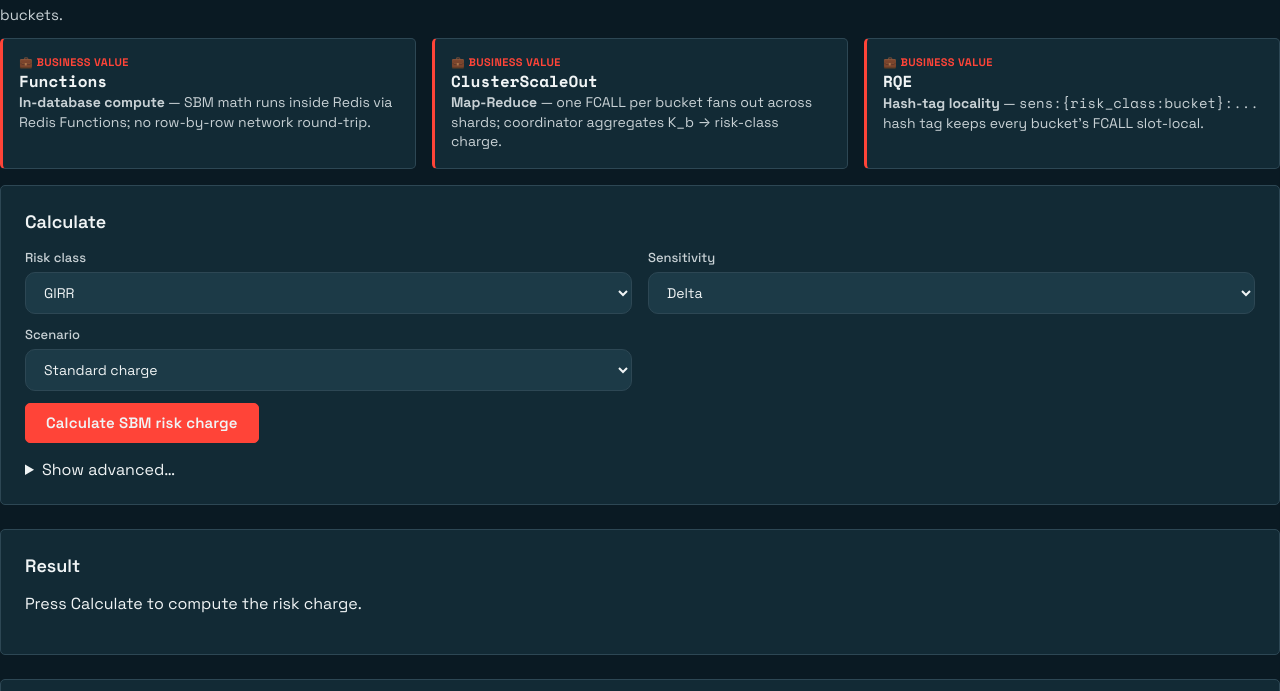
CalcPanel Wave 5.18 polish + drill-down › Wave 5.21a: FX Delta drill-down renders {spot} scalar cell with no placeholder
Step 1. Select "FX" in the dropdown labelled "Risk class" → (328, 293), box left=25, top=272, right=632, bottom=314
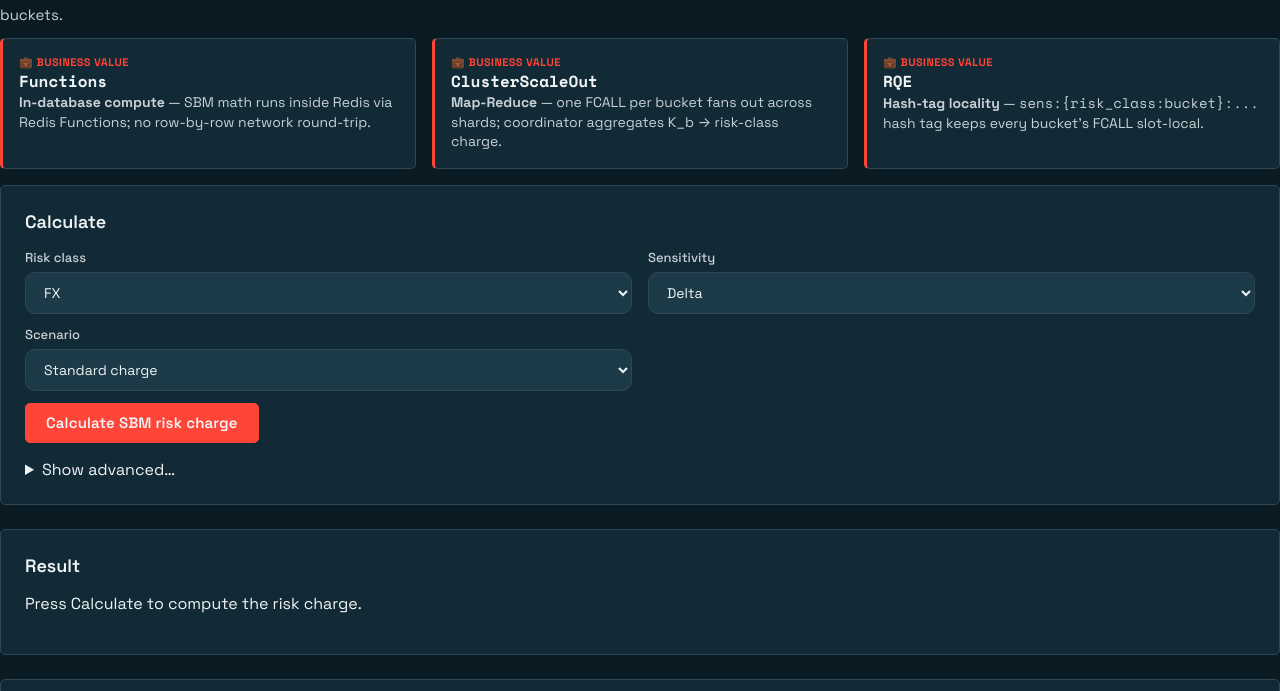
Step 2. Click the button "Calculate SBM risk charge" → (142, 423), box left=25, top=403, right=259, bottom=443
(page scrolled)
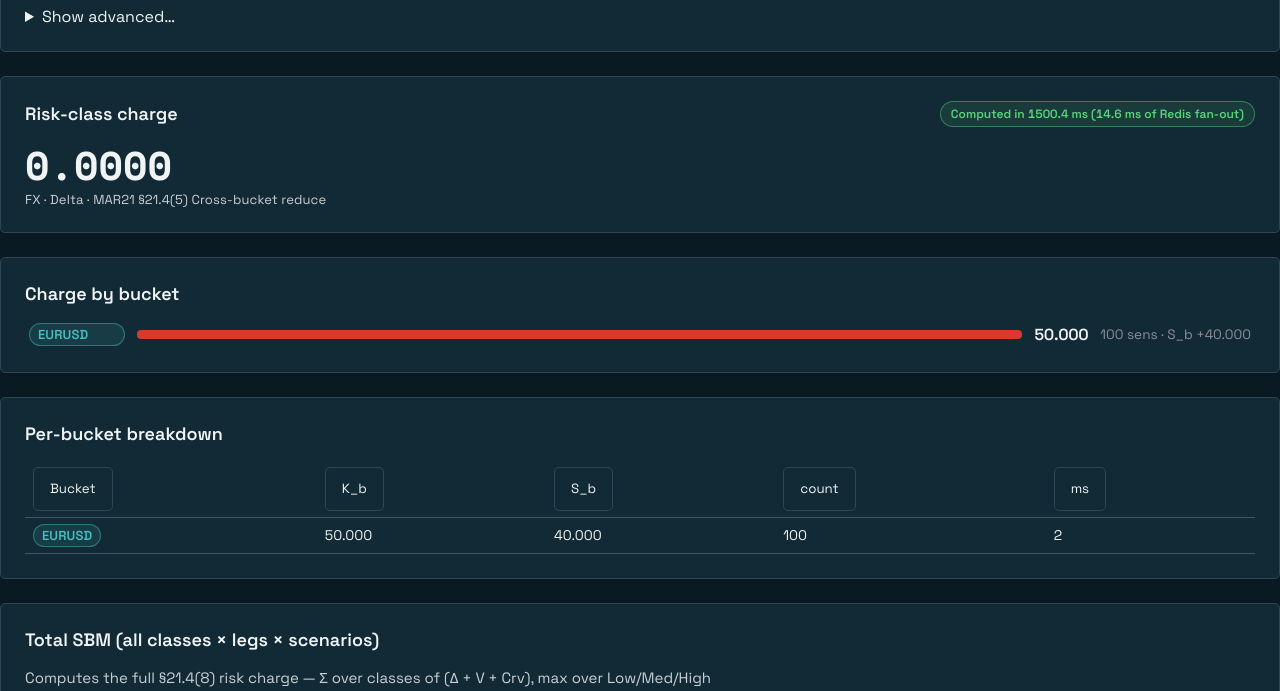
expect the text "0.0000" is shown: met, box left=25, top=143, right=172, bottom=187
Step 3. Click the button with test id "bucket-chart-row" → (640, 334), box left=25, top=321, right=1255, bottom=348
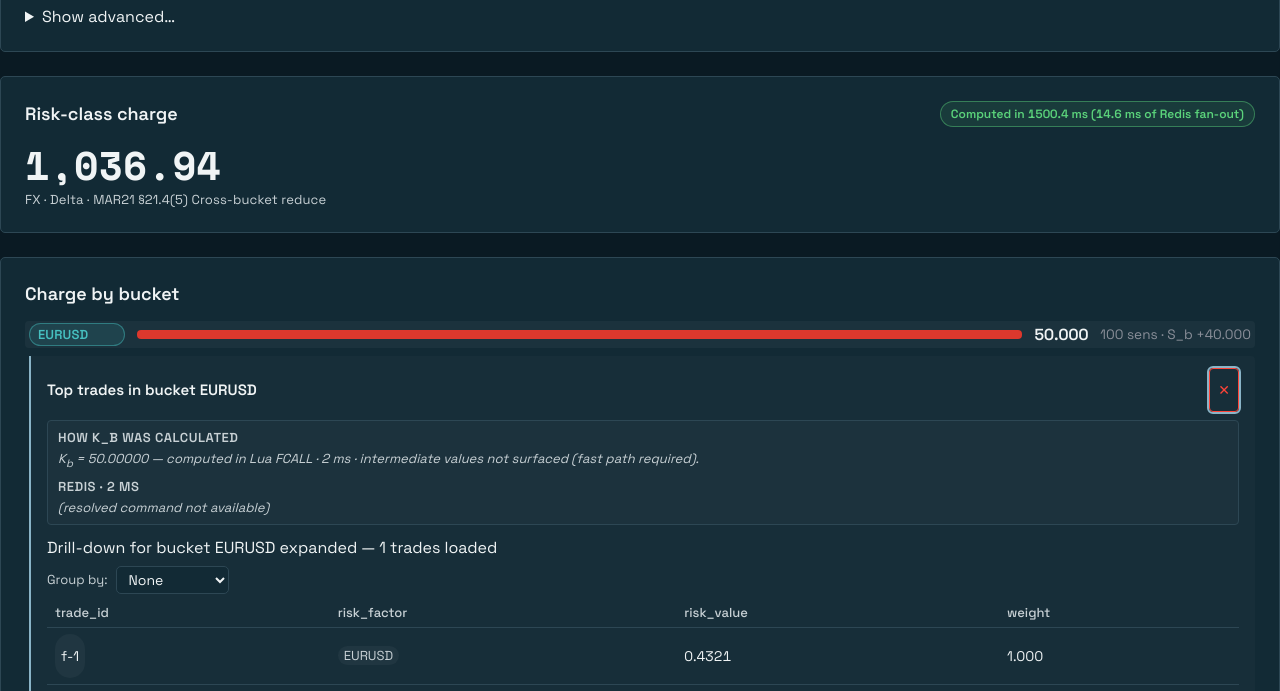
expect the row with test id "drilldown-row" is shown: met, box left=47, top=627, right=1239, bottom=684
